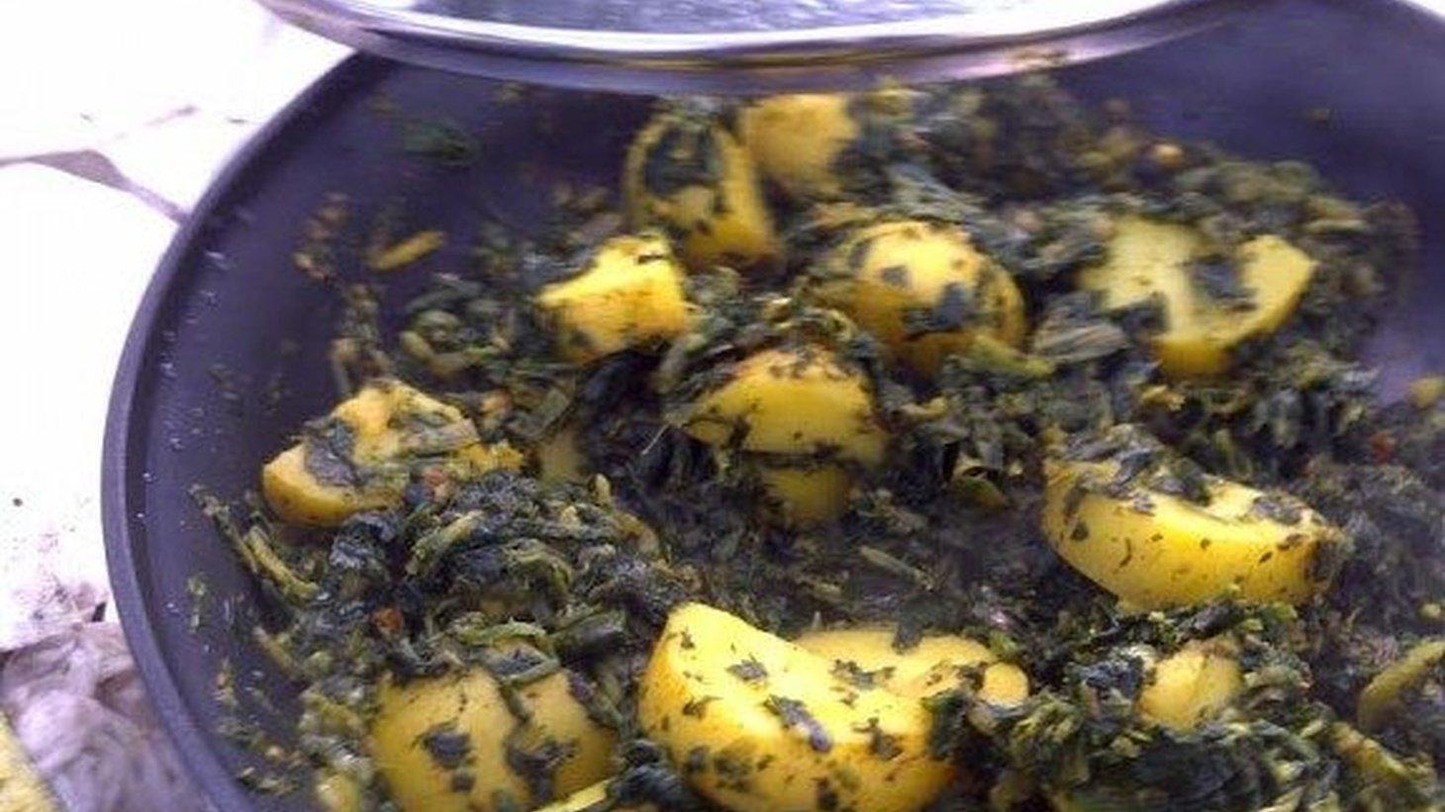Aloo Methi: (242, 27, 1445, 812)
